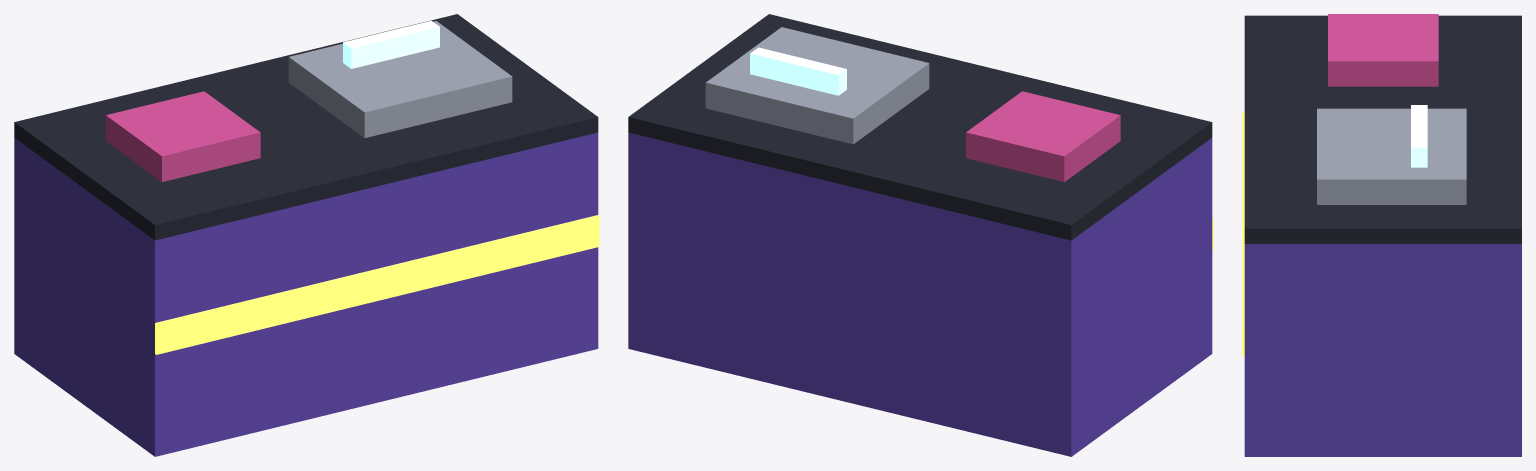
Rendered from cash-register.glb.
3 views of the same model, side by side, from view 1: azimuth 30°, elevation 25°; view 2: azimuth 150°, elevation 25°; view 3: azimuth 270°, elevation 25° (orthographic).
Visible parts, largest first — view 1: cash-register; view 2: cash-register; view 3: cash-register.
Part boxes in pixels (left/top/right/bottom): cash-register: left=14, top=14, right=599, bottom=456; cash-register: left=628, top=14, right=1213, bottom=456; cash-register: left=1242, top=14, right=1521, bottom=456.
Bounding box in the file's own units: 0.9 × 0.54 × 0.5.
Materials: 1 (1 with a texture image).
